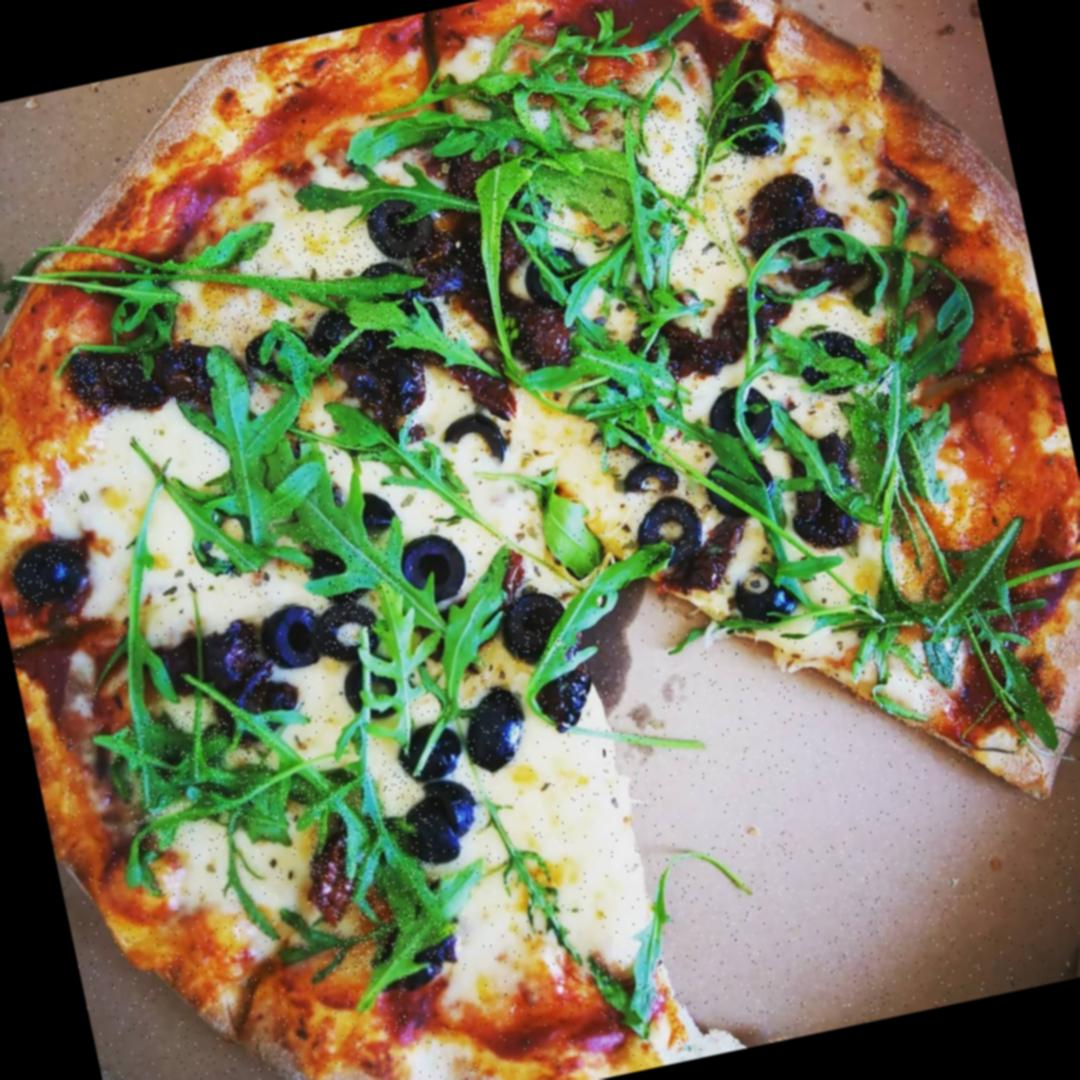Arugula: (150, 197, 474, 410), (461, 45, 695, 264), (868, 485, 1060, 738), (182, 381, 350, 600), (294, 757, 456, 976), (110, 693, 294, 854), (803, 308, 938, 501), (563, 328, 691, 472), (384, 591, 484, 690), (320, 527, 408, 608)
Cheese: (68, 428, 227, 634), (500, 748, 642, 960), (418, 370, 598, 524), (637, 85, 778, 279)
Olives: (342, 342, 436, 430), (398, 776, 487, 861), (64, 346, 158, 422), (741, 170, 822, 258), (458, 686, 531, 781), (394, 528, 471, 610), (6, 538, 84, 611), (364, 196, 435, 270), (638, 490, 705, 565), (436, 406, 512, 472), (798, 476, 860, 552), (212, 618, 276, 691), (152, 630, 227, 692), (443, 145, 510, 214), (502, 598, 570, 665), (158, 340, 226, 406), (342, 650, 404, 720), (516, 301, 574, 374), (268, 601, 328, 671), (700, 388, 770, 446), (538, 669, 600, 734), (716, 284, 781, 346), (402, 720, 467, 781), (241, 678, 308, 736), (318, 596, 379, 659), (416, 234, 472, 302), (646, 320, 715, 374), (453, 218, 498, 286), (314, 309, 368, 358), (239, 333, 295, 378), (732, 83, 780, 135), (342, 490, 392, 535), (630, 452, 678, 498), (736, 124, 776, 154)
Pizza: (0, 0, 1080, 1080)
